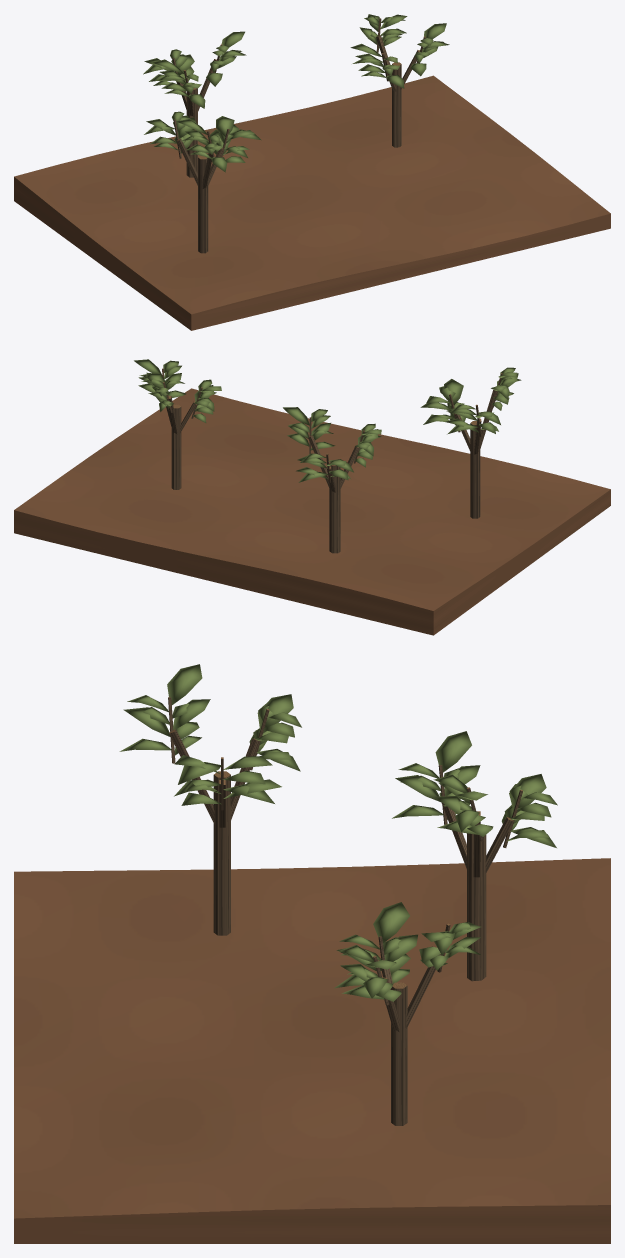
3 renders of one model, top to bottom at view 1: azimuth 30°, elevation 25°; view 2: azimuth 150°, elevation 25°; view 3: azimuth 270°, elevation 25°, orthographic. The views are drawn at different scales.
Visible parts, largest first — view 1: new-york; view 2: new-york; view 3: new-york.
Boxes of the visible parts, bbox=[...] form: new-york: bbox=[14, 14, 610, 330]; new-york: bbox=[14, 359, 610, 635]; new-york: bbox=[14, 664, 610, 1243].
Bounding box in the file's own units: 7.1 × 2.58 × 5.2.
1 material, 1 textured.
